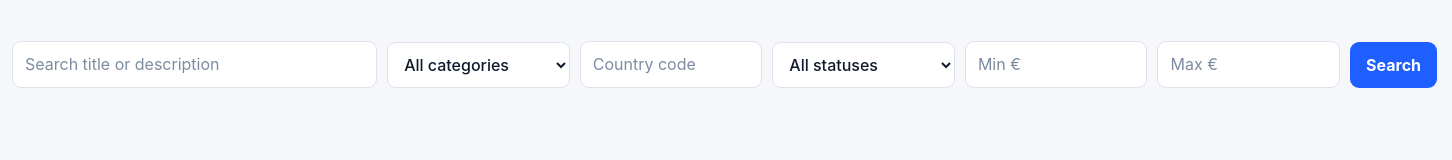
Test: MarketplaceFilters › explains and keeps an inverted price range out of URL navigation
Type "2000000" into the number field named "Minimum price" at (1056, 65), box [965,41,1148,88]
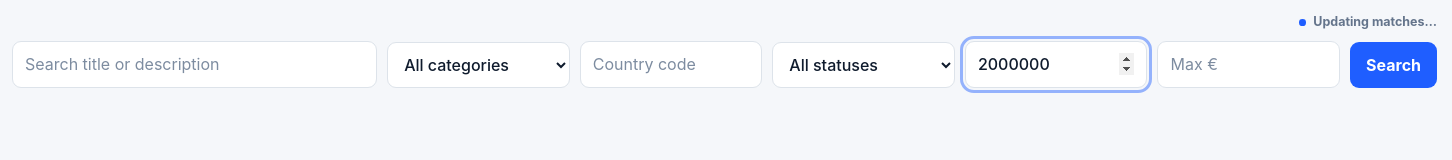
Type "1000000" into the number field named "Maximum price" at (1249, 65), box [1158,41,1340,88]
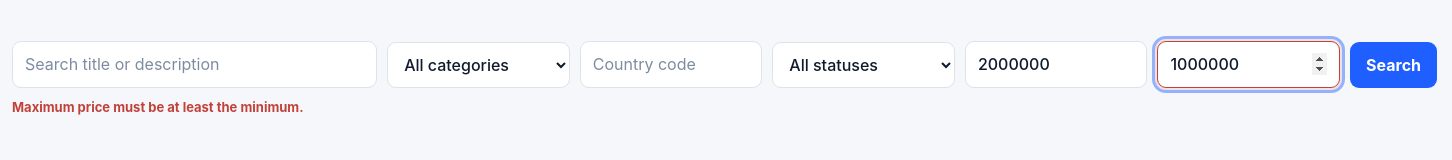
Now the text "Maximum price must be at least the minimum." is shown, box [12,99,304,115]
